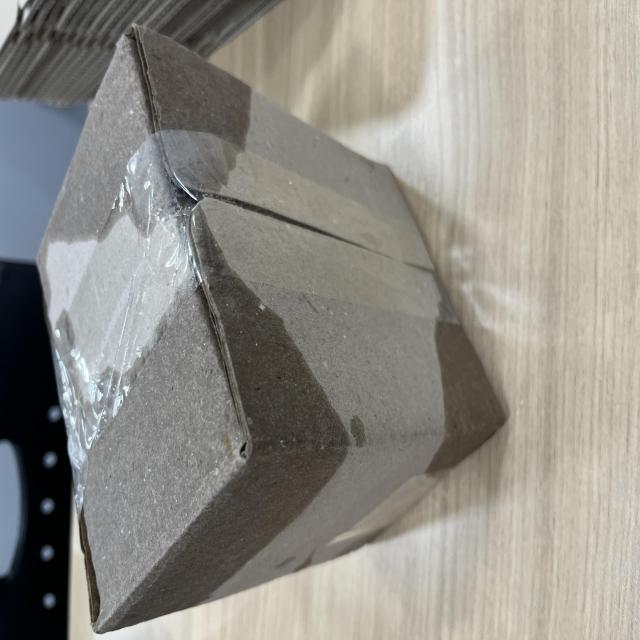wet: (8, 42, 464, 640)
